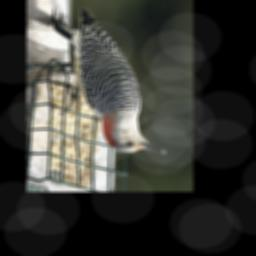Woodpecker: (52, 7, 167, 155)
